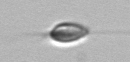plankton: (31, 18, 111, 50)
